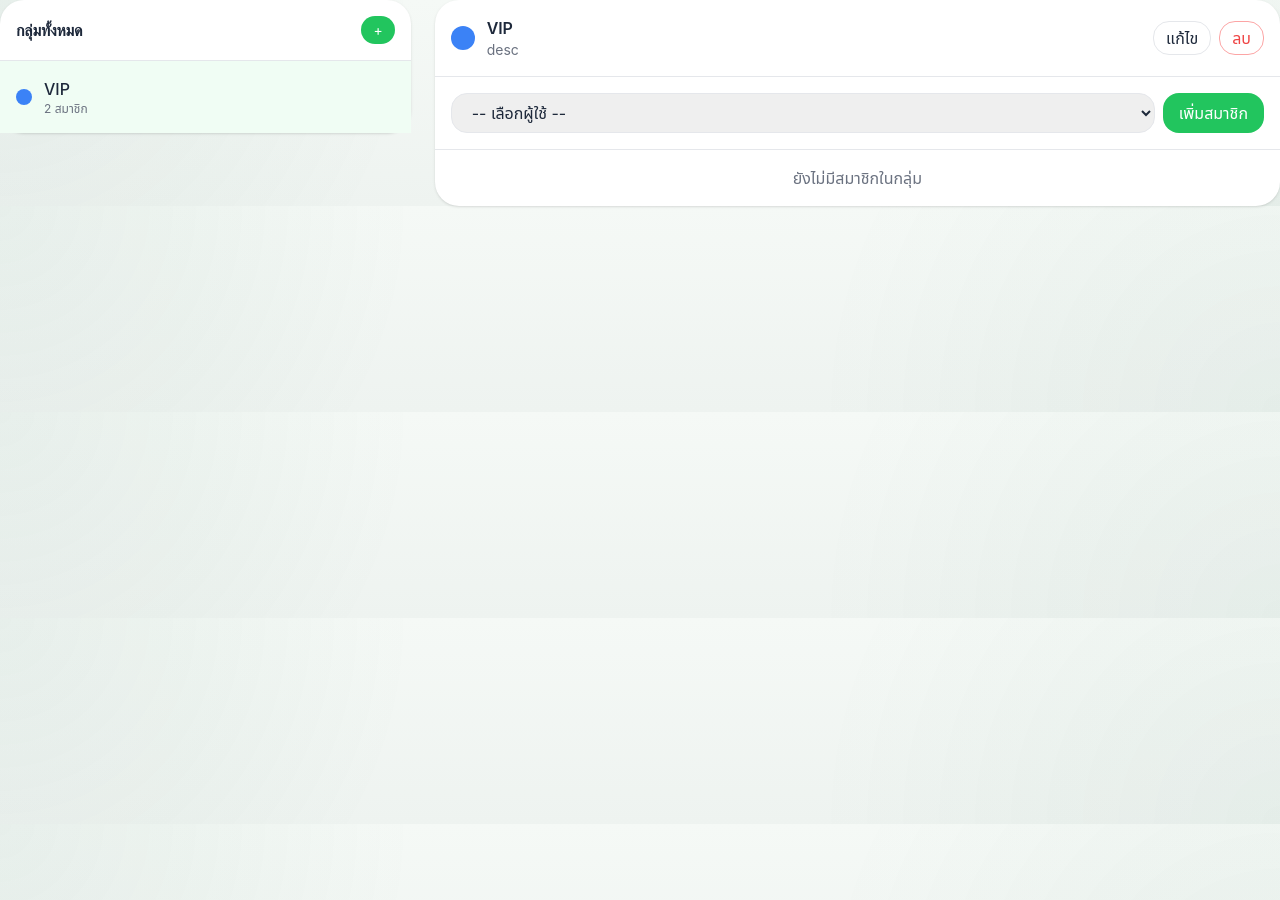
Scenario: GroupsPanel › opens the edit modal pre-filled with the viewed group's data
Click the button with aria-label "แก้ไขกลุ่ม" at (1182, 38), box [1153, 21, 1211, 55]
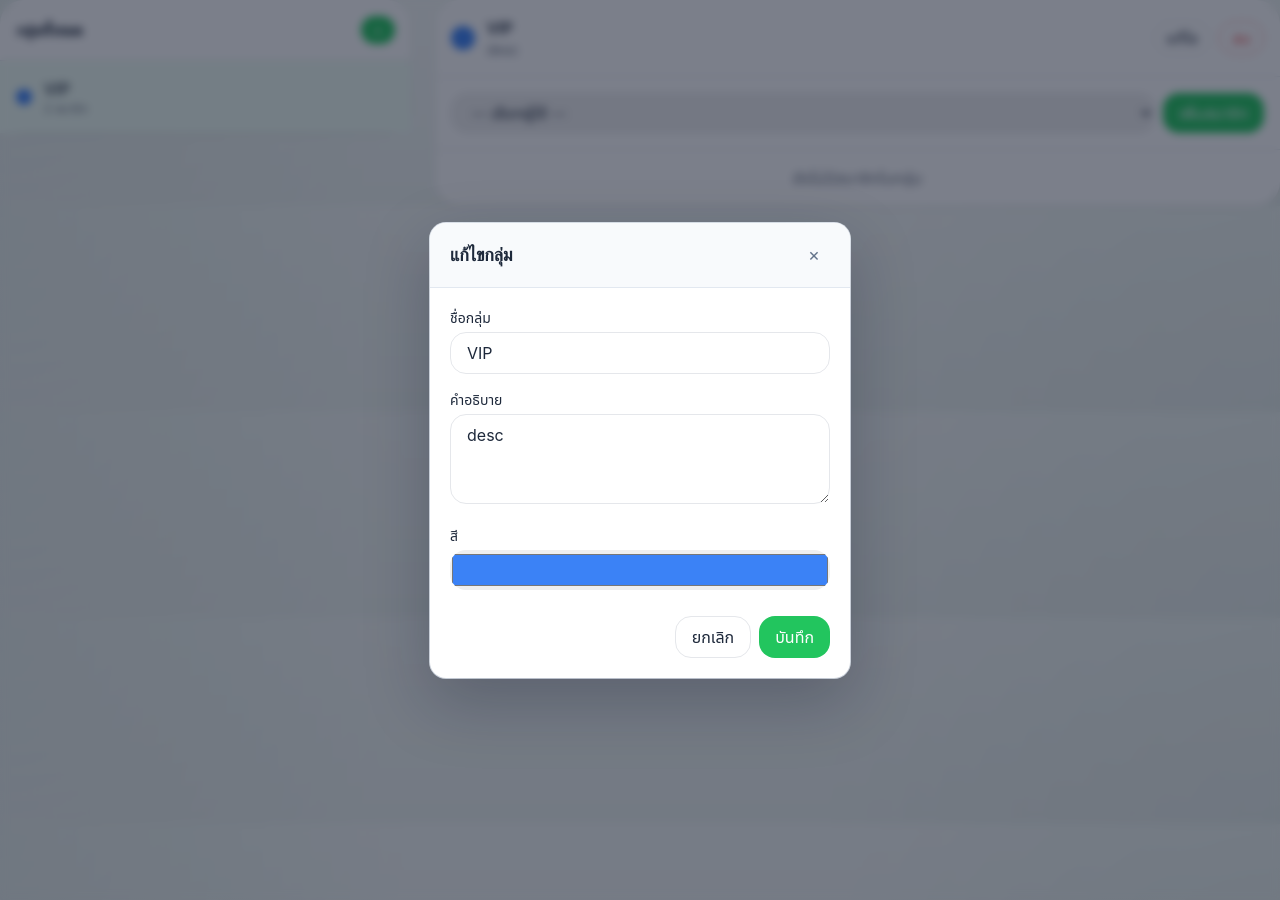
Now the field labelled "ชื่อกลุ่ม" holds "VIP", box [450, 332, 830, 374]
Now the text box labelled "คำอธิบาย" holds "desc", box [450, 414, 830, 504]
